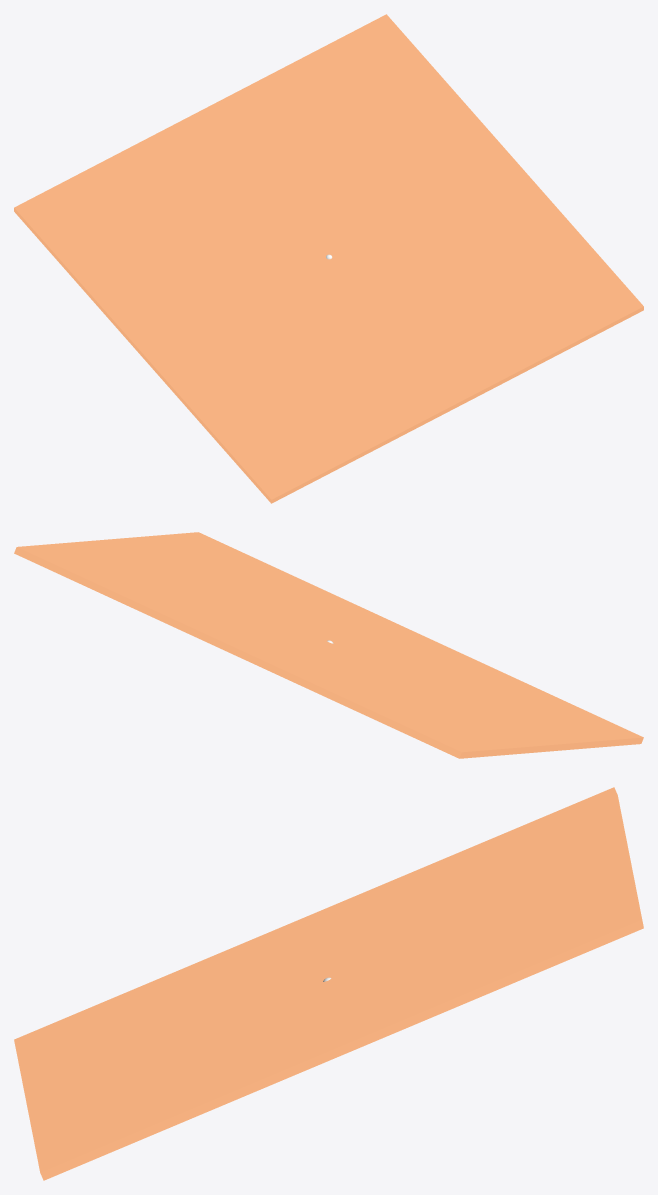
Rendered from blackHole.glb.
3 views of the same model, one above another, from view 1: azimuth 30°, elevation 25°; view 2: azimuth 150°, elevation 25°; view 3: azimuth 270°, elevation 25° (orthographic). The views are drawn at different scales.
Parts seen in each view (by area): view 1: accretion disk; view 2: accretion disk; view 3: accretion disk.
Part boxes in pixels (x1,y1,x2,y2): accretion disk: (14,14,643,503); accretion disk: (14,532,643,758); accretion disk: (14,787,643,1180).
Bounding box in the file's own units: 143 × 79.22 × 126.
